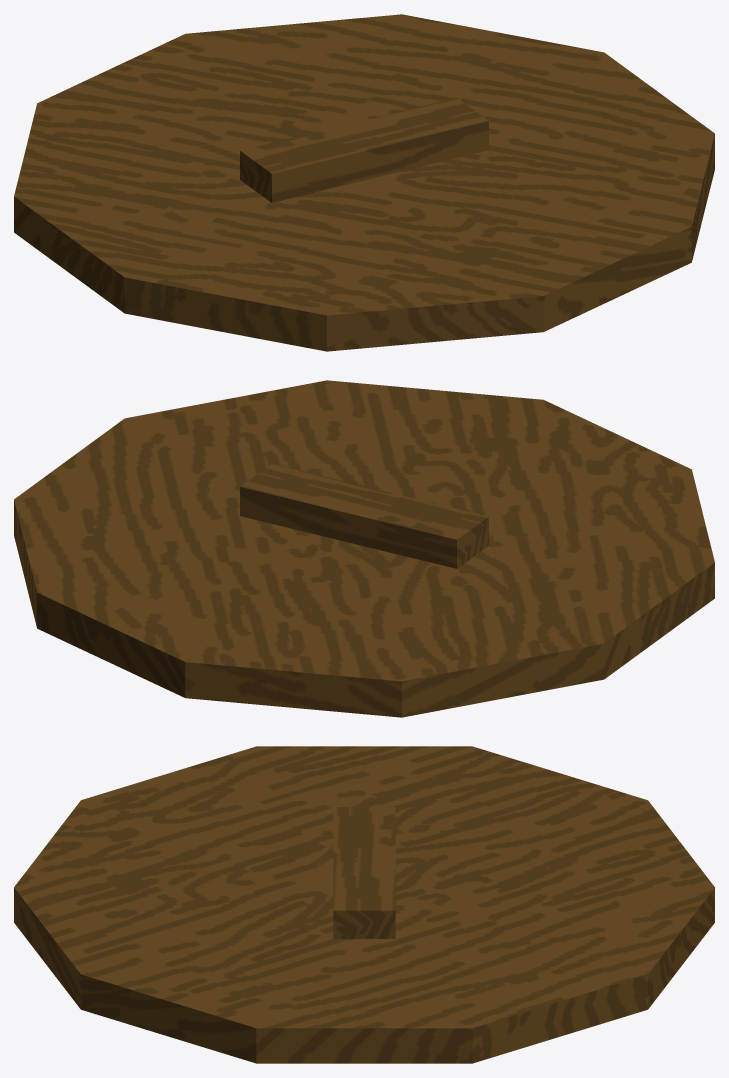
File: barrel_top.fbx
3 renders of one model, top to bottom at view 1: azimuth 30°, elevation 25°; view 2: azimuth 150°, elevation 25°; view 3: azimuth 270°, elevation 25°, orthographic. The views are drawn at different scales.
Parts seen in each view (by area): view 1: barrel_top; view 2: barrel_top; view 3: barrel_top.
Boxes of the visible parts, box(x1,y1,x2,y2) form: barrel_top: box(14, 14, 714, 351); barrel_top: box(14, 380, 714, 717); barrel_top: box(14, 746, 714, 1063).
Bounding box in the file's own units: 125 × 13.18 × 131.
